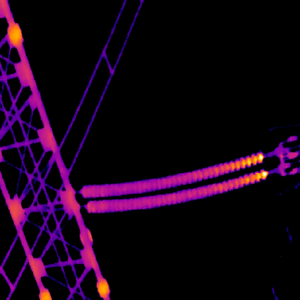insulator: (80, 151, 268, 213)
